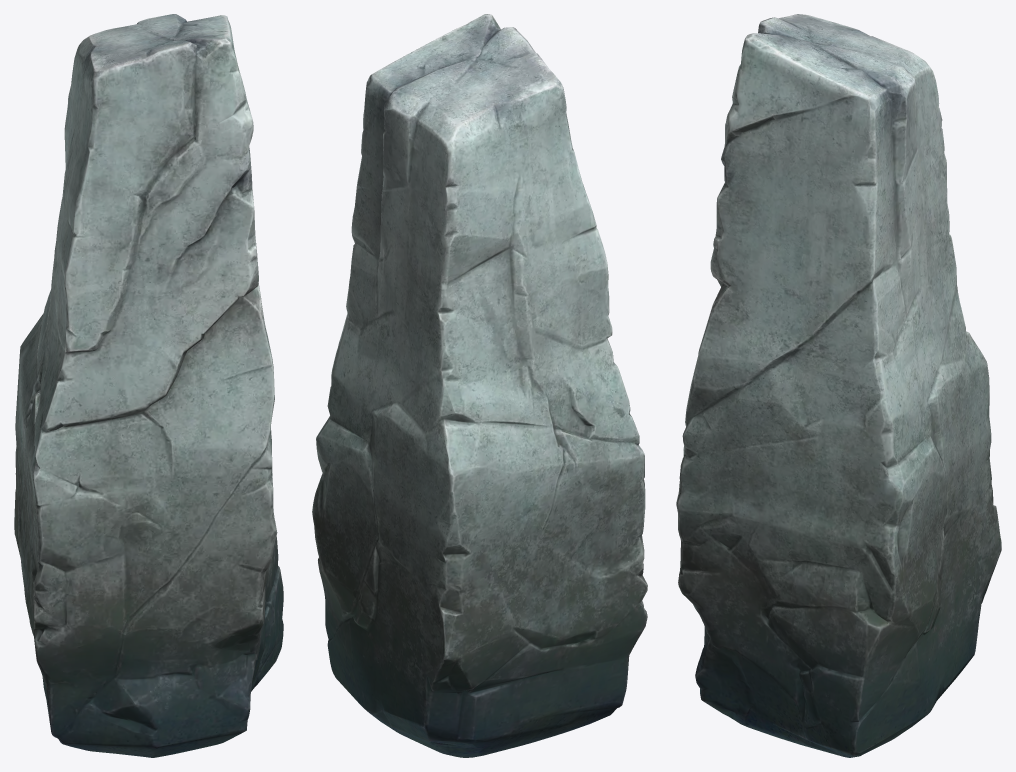
The picture shows the model from 3 angles, left to right: view 1: azimuth 30°, elevation 25°; view 2: azimuth 150°, elevation 25°; view 3: azimuth 270°, elevation 25°; orthographic projection. The views are drawn at different scales.
Parts seen in each view (by area): view 1: SM_Stone_Arch_01v2_LOD0; view 2: SM_Stone_Arch_01v2_LOD0; view 3: SM_Stone_Arch_01v2_LOD0.
Boxes of the visible parts, left/top/right/bottom form: SM_Stone_Arch_01v2_LOD0: left=14, top=14, right=283, bottom=757; SM_Stone_Arch_01v2_LOD0: left=312, top=14, right=647, bottom=757; SM_Stone_Arch_01v2_LOD0: left=676, top=14, right=1001, bottom=757.
Bounding box in the file's own units: 4.67 × 11.08 × 4.55.
Materials: 1 (1 with a texture image).
